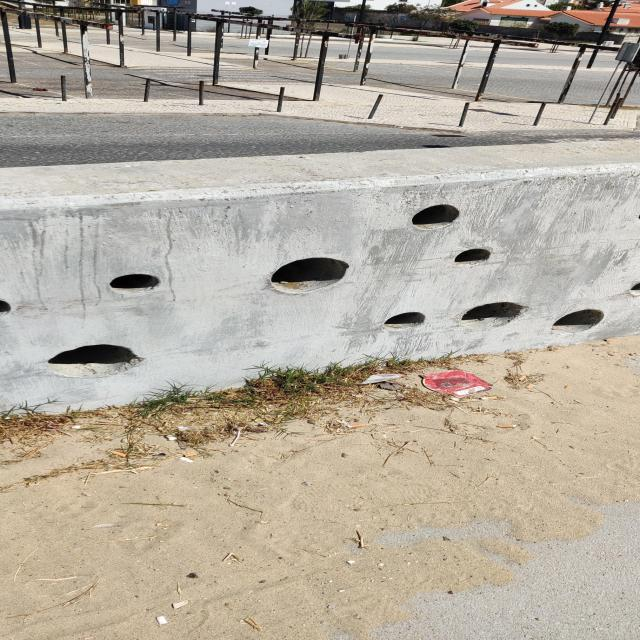litter: (420, 370, 494, 397), (360, 374, 403, 384), (230, 428, 243, 446), (347, 423, 365, 428), (112, 451, 128, 456), (478, 397, 497, 400), (498, 425, 516, 428), (184, 453, 197, 457), (525, 384, 535, 389), (96, 420, 112, 423), (518, 376, 526, 381), (604, 338, 615, 341)
